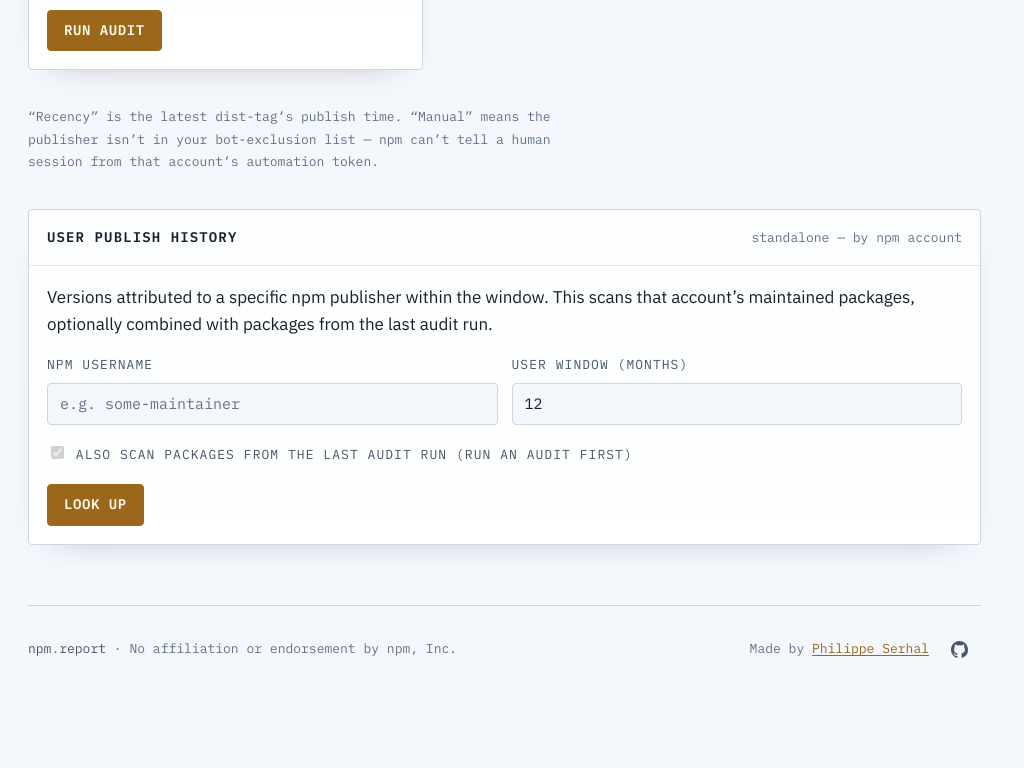
App › associates the required-username error with the username input
(page scrolled)
Click the button "Look up". click: x=95, y=505
box: [47,484,144,526]
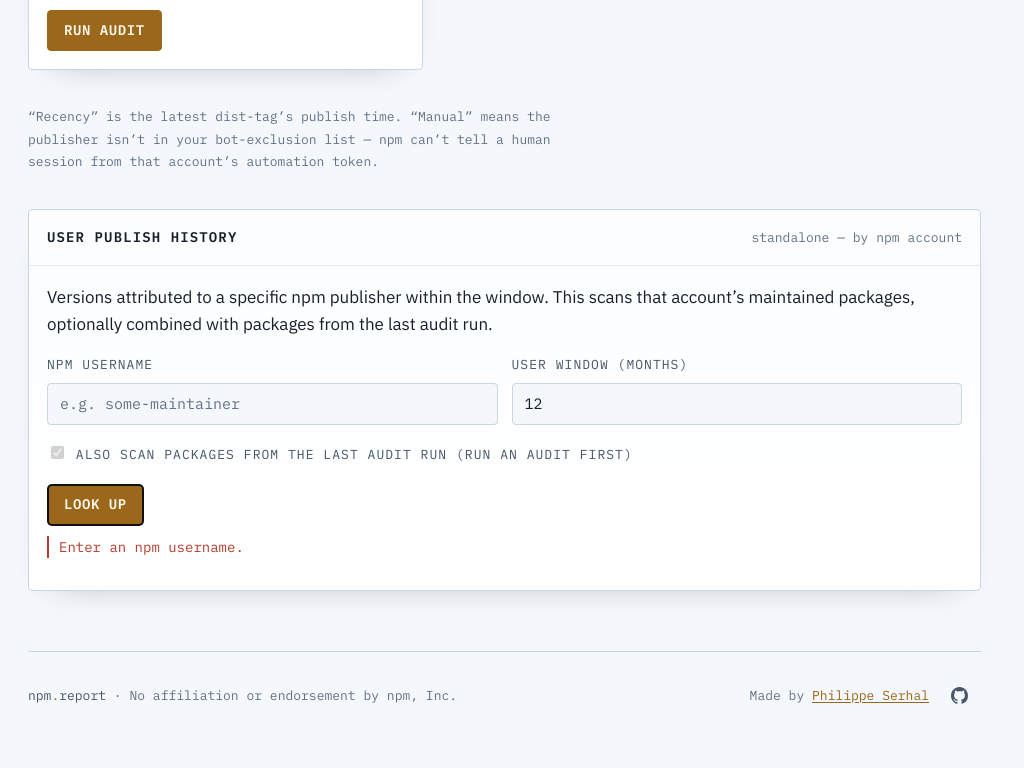
Expected: the message reads "Enter an npm username.", [59,538,244,556]
